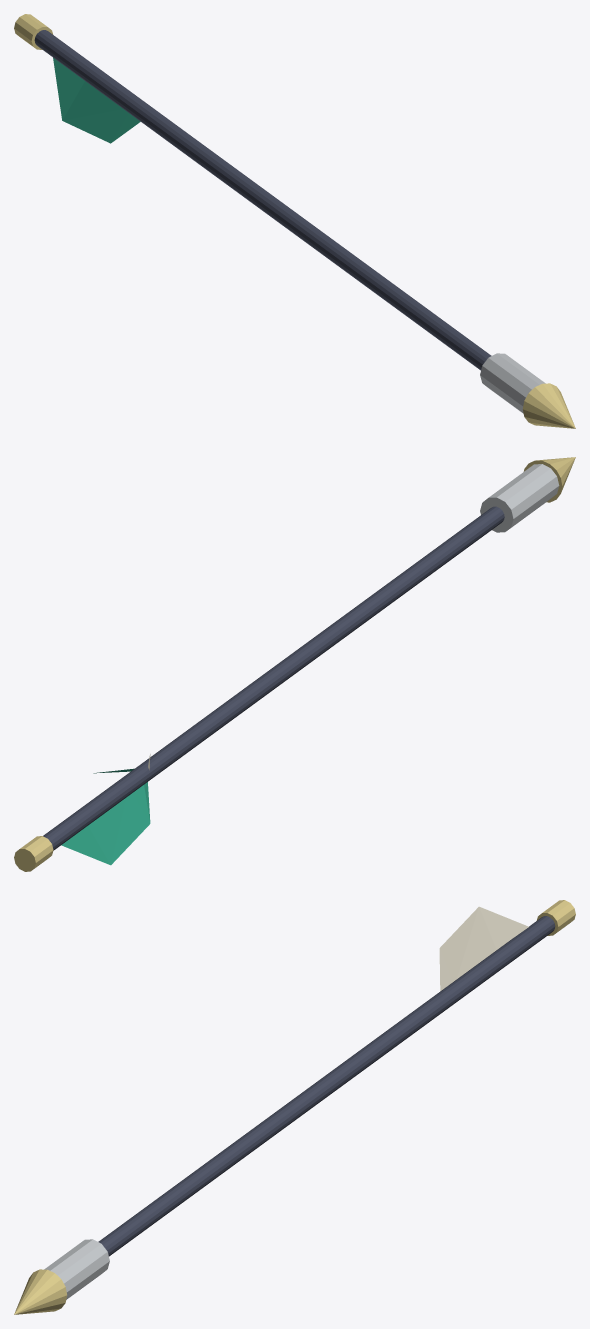
Rendered from flecha_dragao_de_esmeralda.glb.
The picture shows the model from 3 angles, top to bottom: view 1: azimuth 30°, elevation 25°; view 2: azimuth 150°, elevation 25°; view 3: azimuth 330°, elevation 25°; orthographic projection.
Parts seen in each view (by area): view 1: haste_carbono, pena_2, ponta_metalica, ponta, encaixe; view 2: haste_carbono, pena_2, ponta_metalica, encaixe, ponta; view 3: haste_carbono, pena_1, ponta_metalica, ponta, encaixe.
Part boxes in pixels (box(x1,y1,x2,y2)): haste_carbono: box(34, 30, 491, 370); pena_2: box(53, 57, 140, 143); ponta_metalica: box(480, 353, 545, 413); ponta: box(522, 383, 575, 428); encaixe: box(14, 14, 53, 49); haste_carbono: box(43, 506, 504, 850); pena_2: box(61, 782, 150, 865); ponta_metalica: box(480, 464, 559, 532); encaixe: box(14, 836, 53, 871); ponta: box(523, 457, 575, 502); haste_carbono: box(98, 916, 555, 1256); pena_1: box(439, 906, 528, 990); ponta_metalica: box(44, 1239, 109, 1299); ponta: box(14, 1269, 67, 1314); encaixe: box(536, 900, 575, 935).
Size of the model in its own units: 0.24 by 0.2771 by 3.13.
